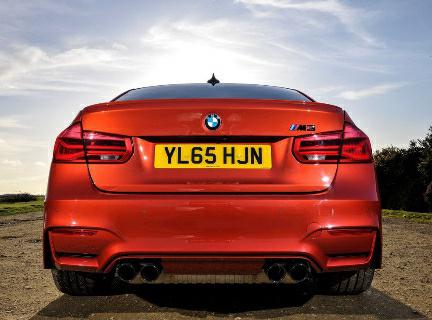宝马-M3: (34, 71, 388, 295)
